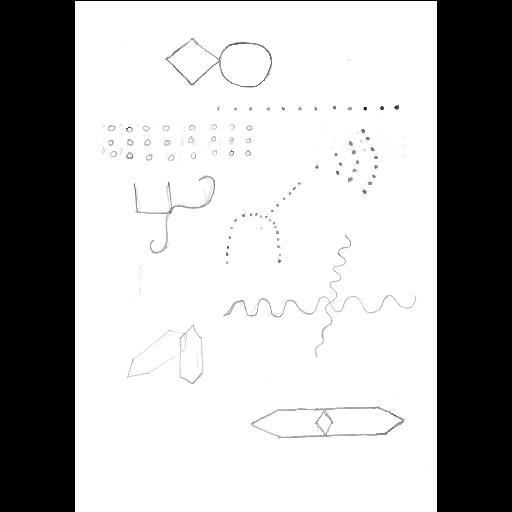shape-1: (160, 32, 274, 90)
shape-2: (211, 102, 403, 114)
shape-3: (106, 116, 254, 166)
shape-4: (310, 124, 382, 198)
shape-5: (130, 171, 216, 257)
shape-6: (222, 177, 302, 269)
shape-7: (222, 232, 420, 364)
shape-8: (123, 322, 209, 388)
shape-9: (248, 398, 406, 446)
